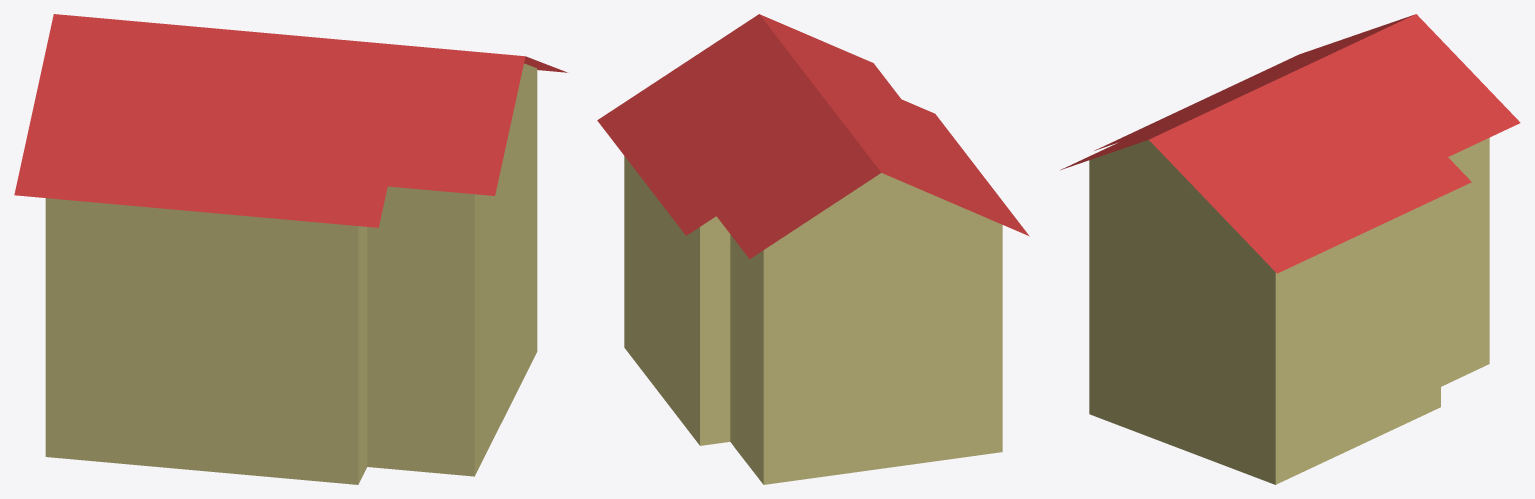
3 views of the same model, side by side, from view 1: azimuth 30°, elevation 25°; view 2: azimuth 150°, elevation 25°; view 3: azimuth 270°, elevation 25° (orthographic). The views are drawn at different scales.
Size of the model in its own units: 17.71 by 15.8 by 11.66.
